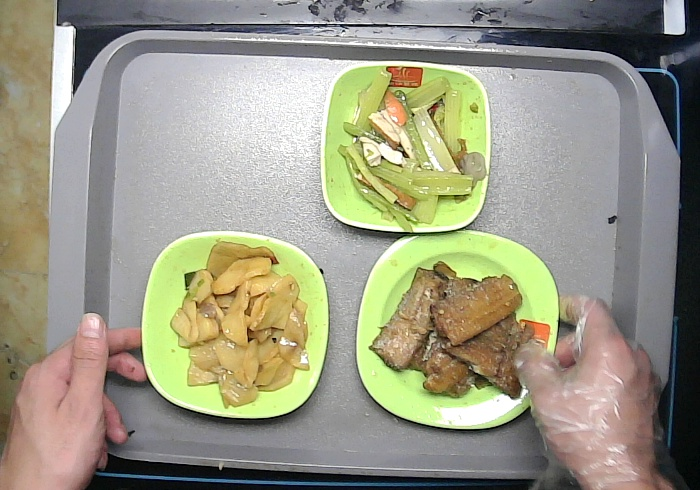SHKJ-Lv_Se_Cai_Die: (140, 230, 329, 419)
SHKJ-Lv_Se_Si_Fang_Cai_Die: (354, 227, 561, 434)
SHKJ-Lv_Se_Xiao_Fang_Die: (320, 62, 492, 236)
